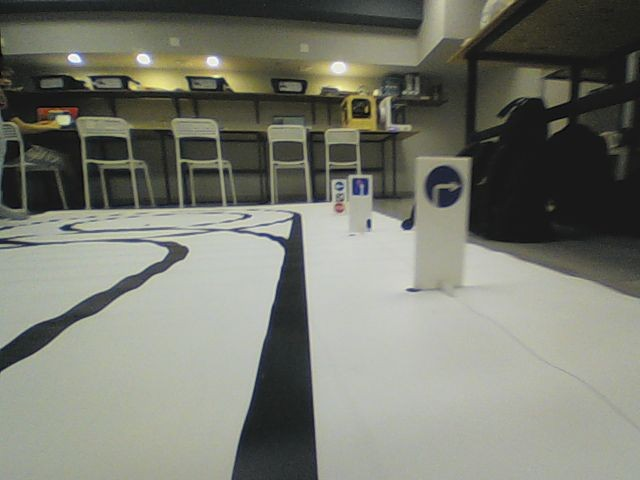Right: (423, 164, 464, 209)
priority_movement: (352, 177, 369, 196)
